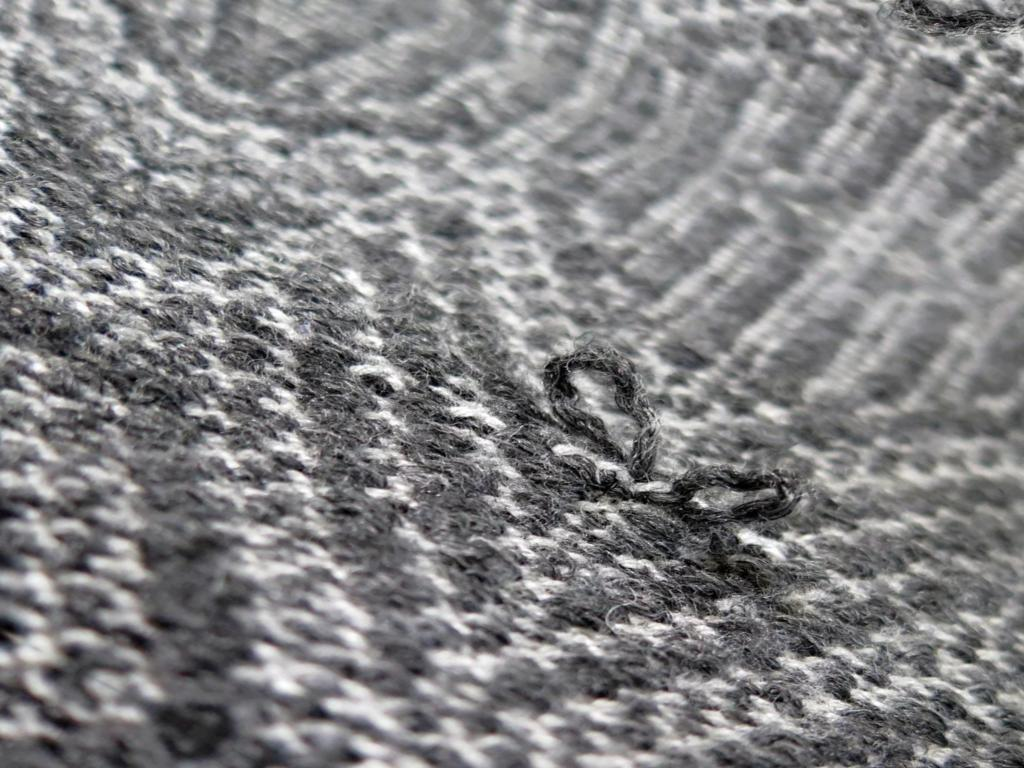snag: (540, 342, 665, 491), (661, 456, 837, 543)
